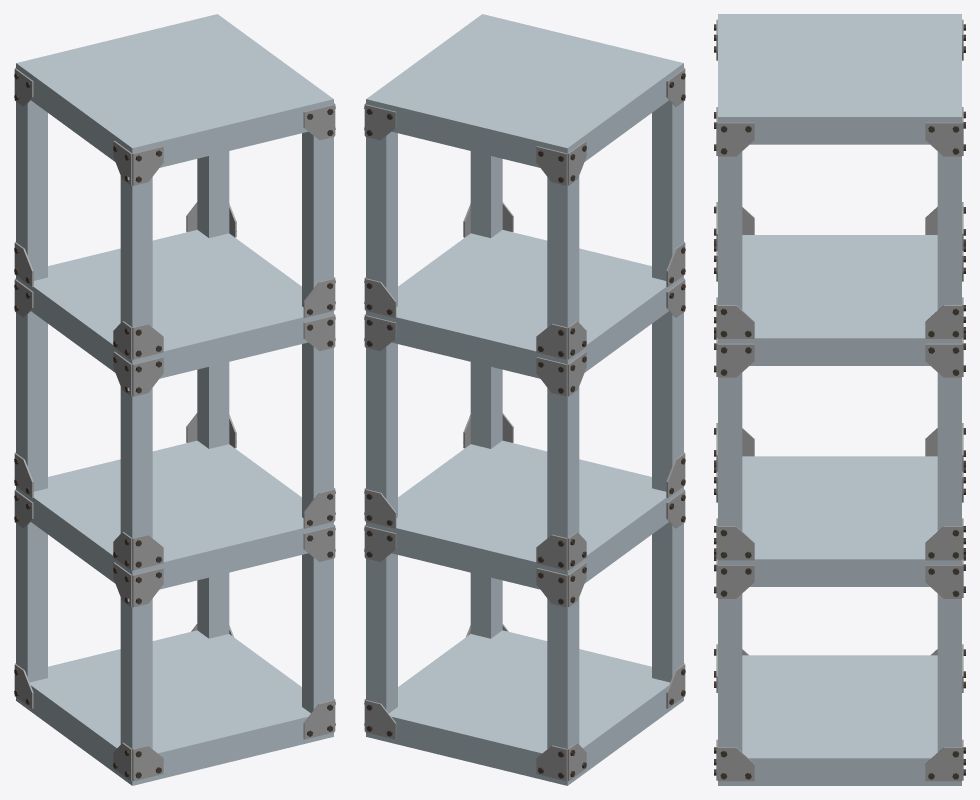
Rendered from 5_Racks_level_3.fbx.
3 renders of one model, left to right at view 1: azimuth 30°, elevation 25°; view 2: azimuth 150°, elevation 25°; view 3: azimuth 270°, elevation 25°, orthographic. The views are drawn at different scales.
Parts seen in each view (by area): view 1: 5_Racks_level_3; view 2: 5_Racks_level_3; view 3: 5_Racks_level_3.
Part boxes in pixels (box(x1,y1,x2,y2)): 5_Racks_level_3: box(14, 14, 335, 785); 5_Racks_level_3: box(364, 14, 685, 785); 5_Racks_level_3: box(714, 14, 965, 785).
Size of the model in its own units: 206 by 605 by 206.
